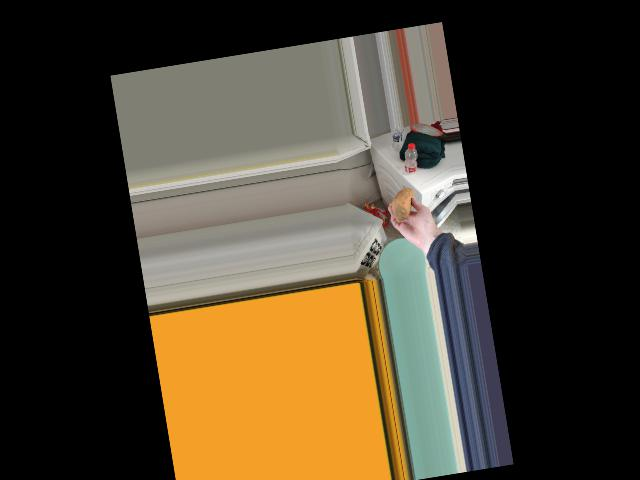sweet_potato: (389, 187, 416, 219)
